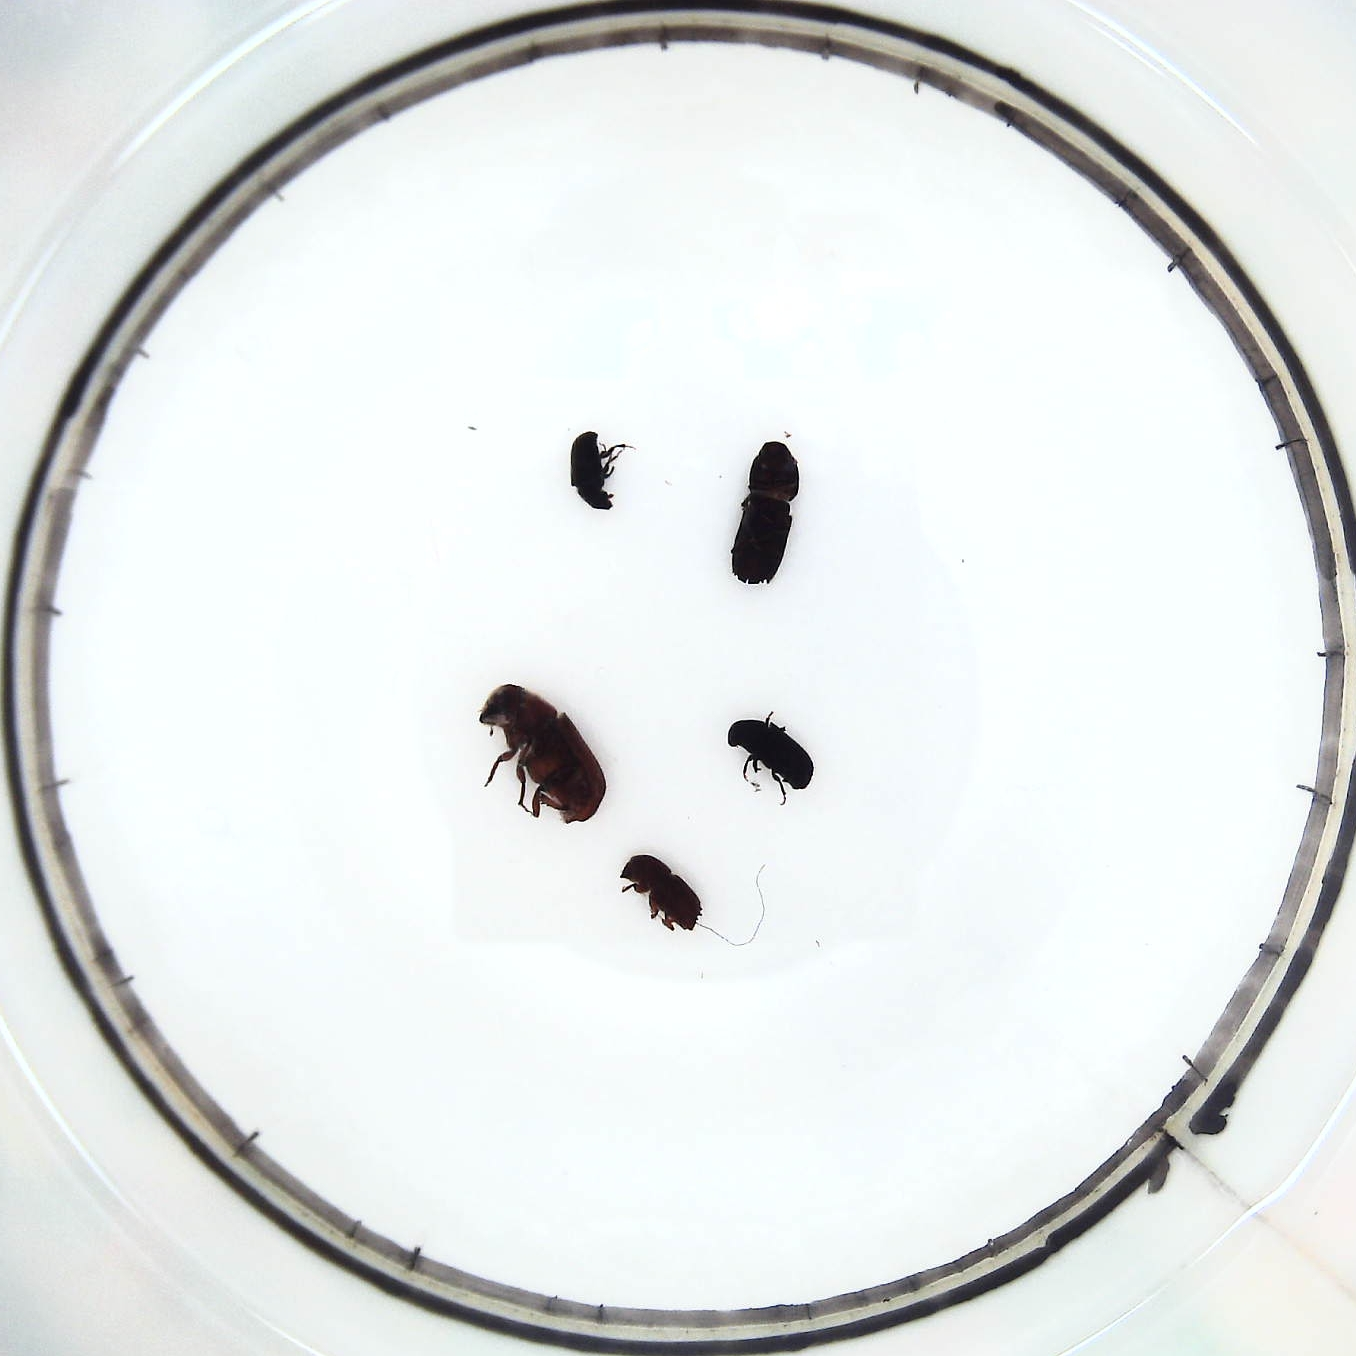Boerner: (728, 440, 806, 591)
Leconte: (469, 682, 606, 829)
armandi: (726, 712, 811, 806)
coleoptera: (563, 425, 636, 518)
linnaeus: (618, 847, 704, 938)
